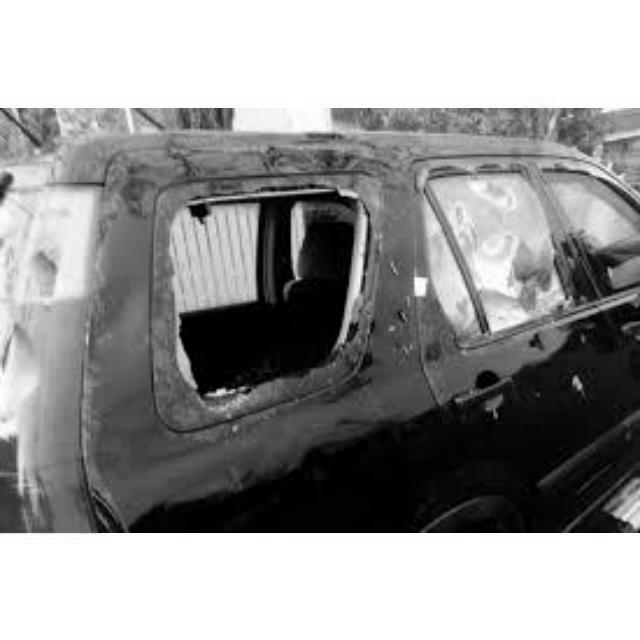doorouter-dent: (148, 177, 377, 430)
